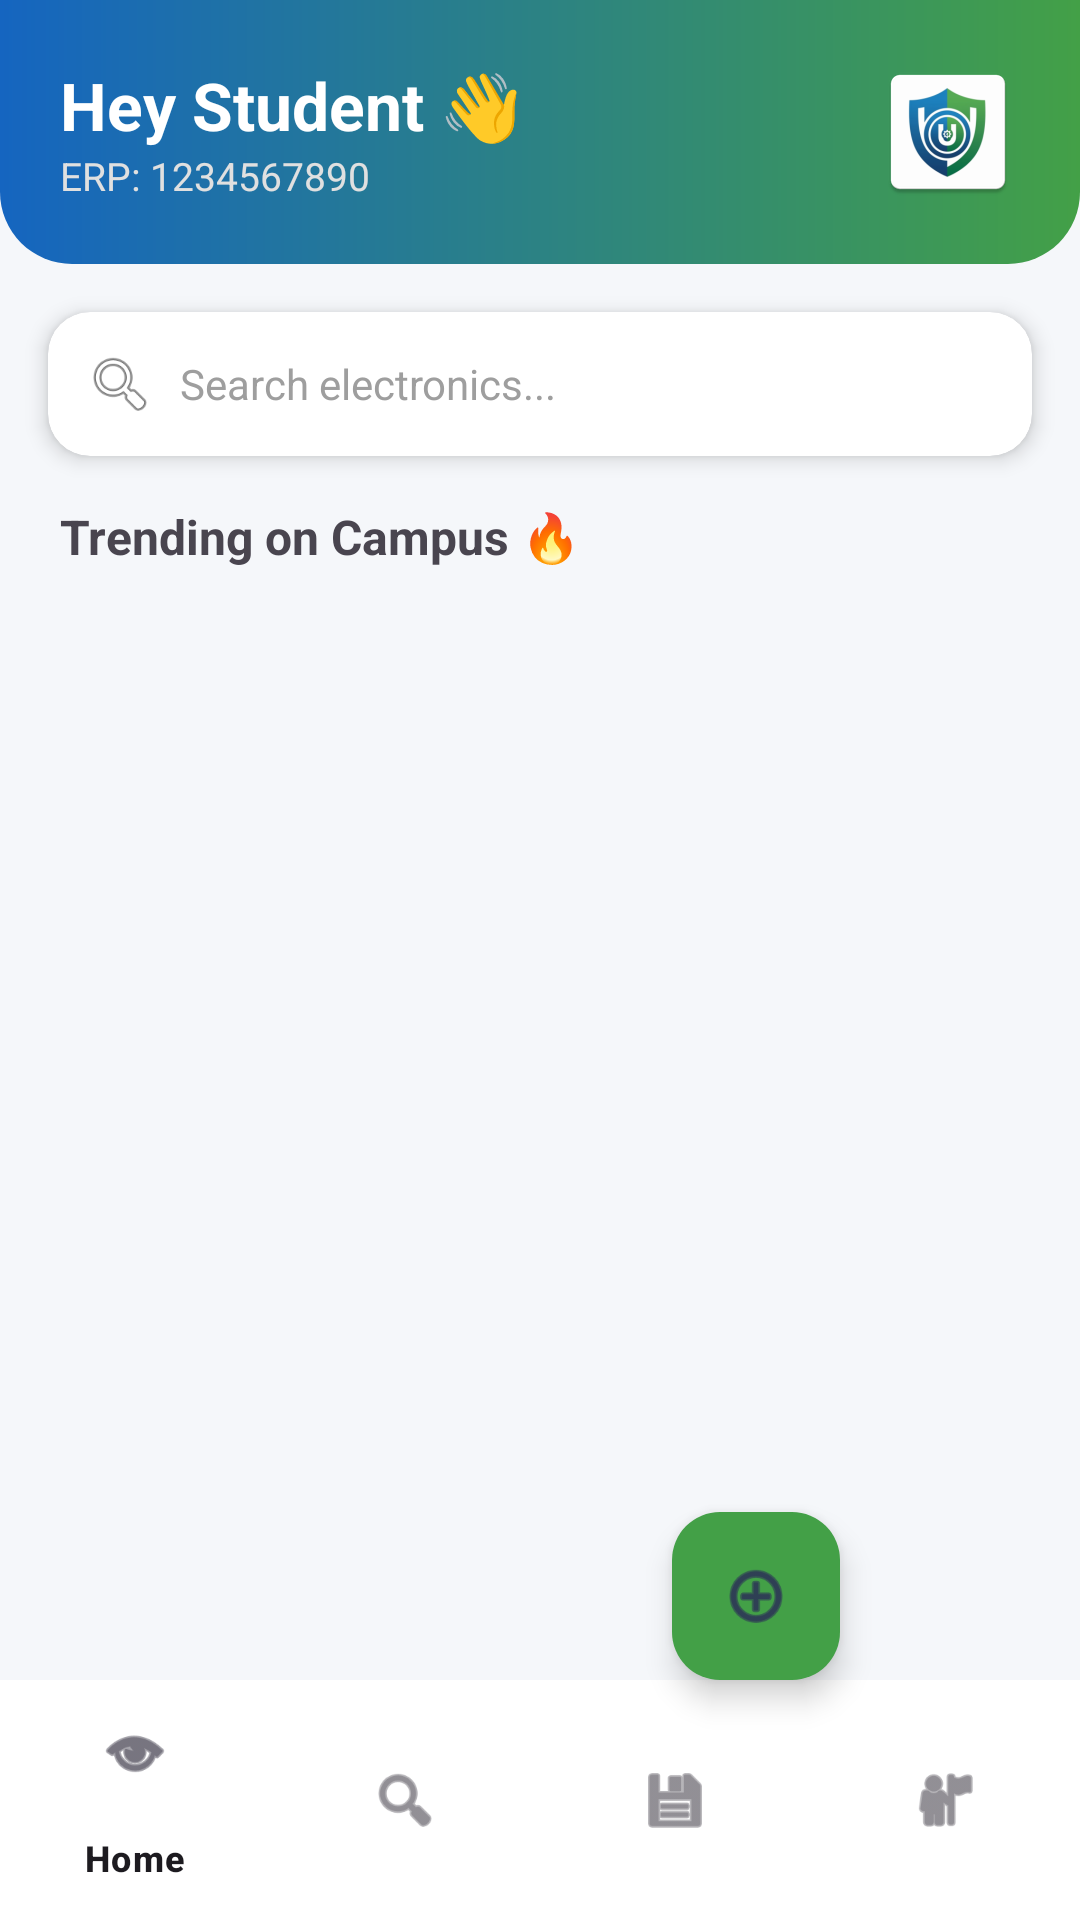

Screen size 1080px x 1920px. Icon name, then its box in pixels as [x1,y1,x2,y2]:
add: [672,1512,840,1680]
